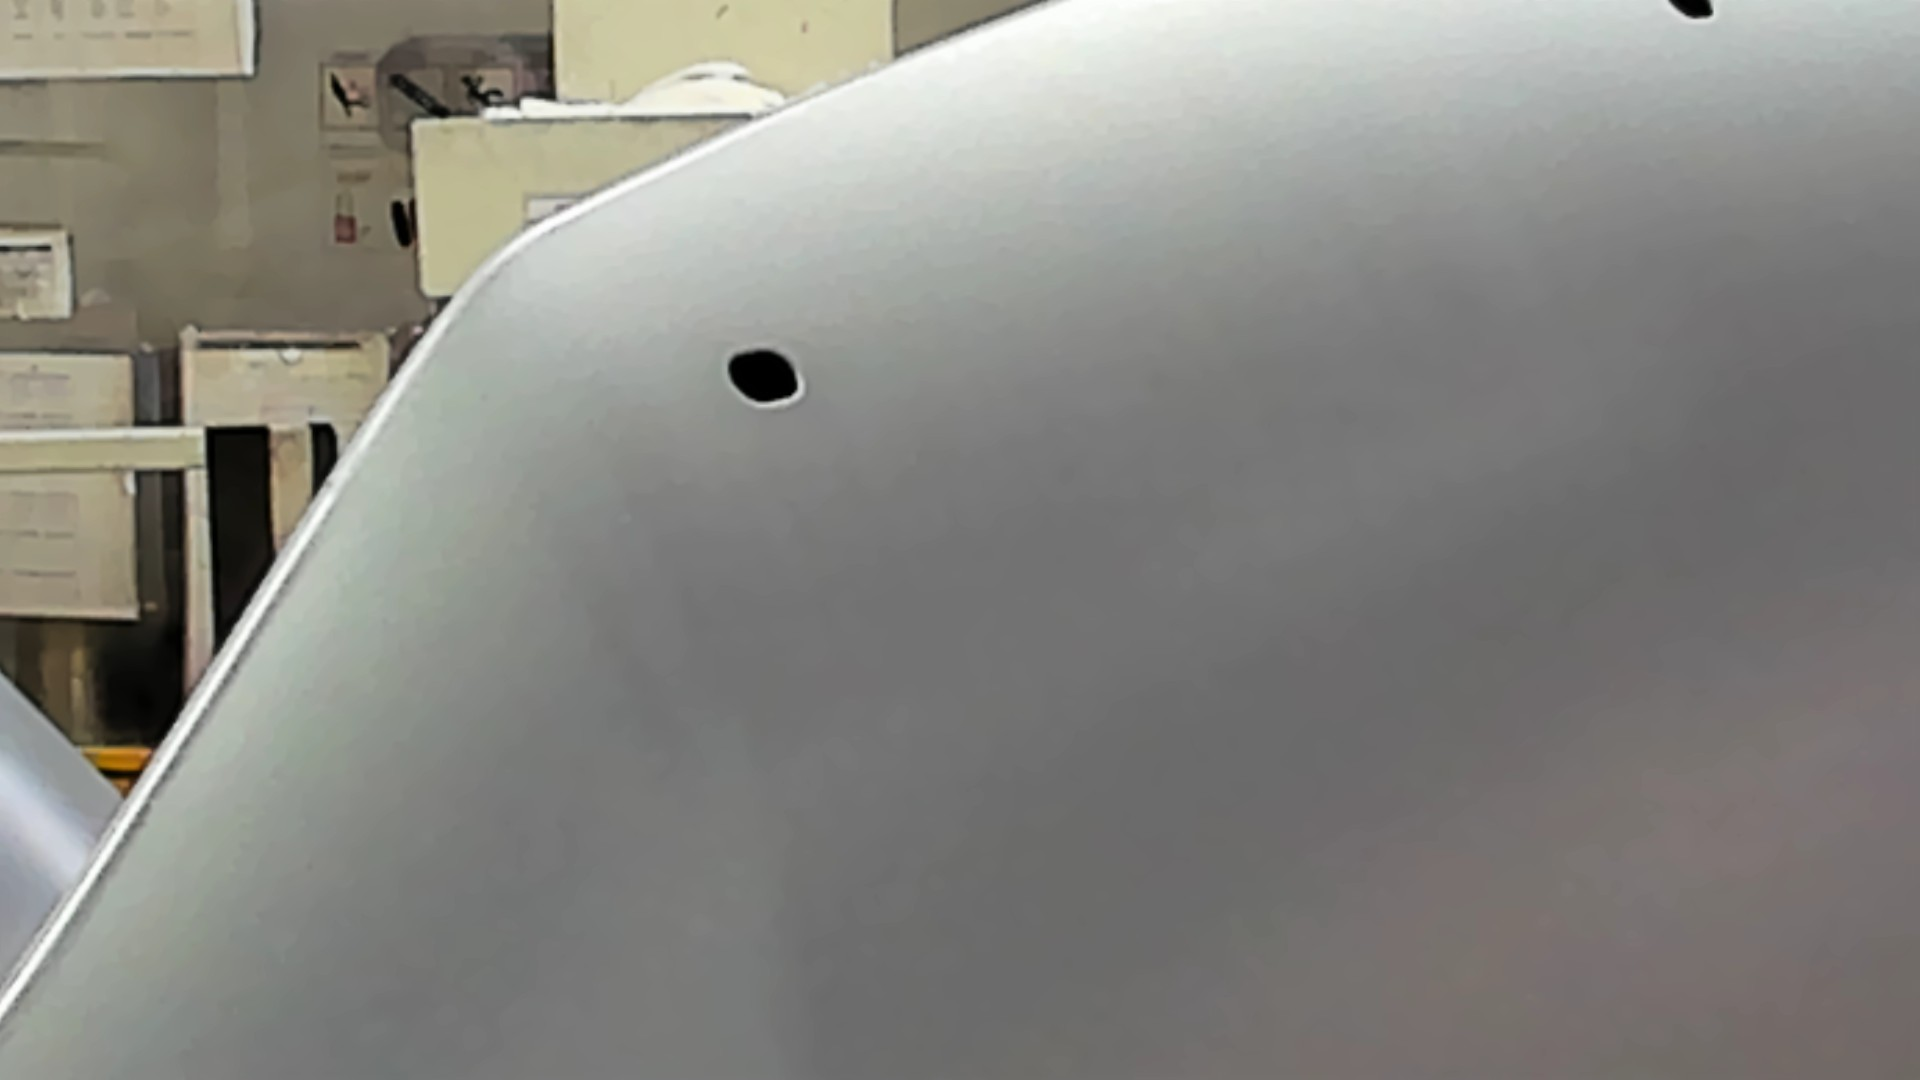amorfo: (724, 345, 808, 410), (1664, 1, 1724, 24)
